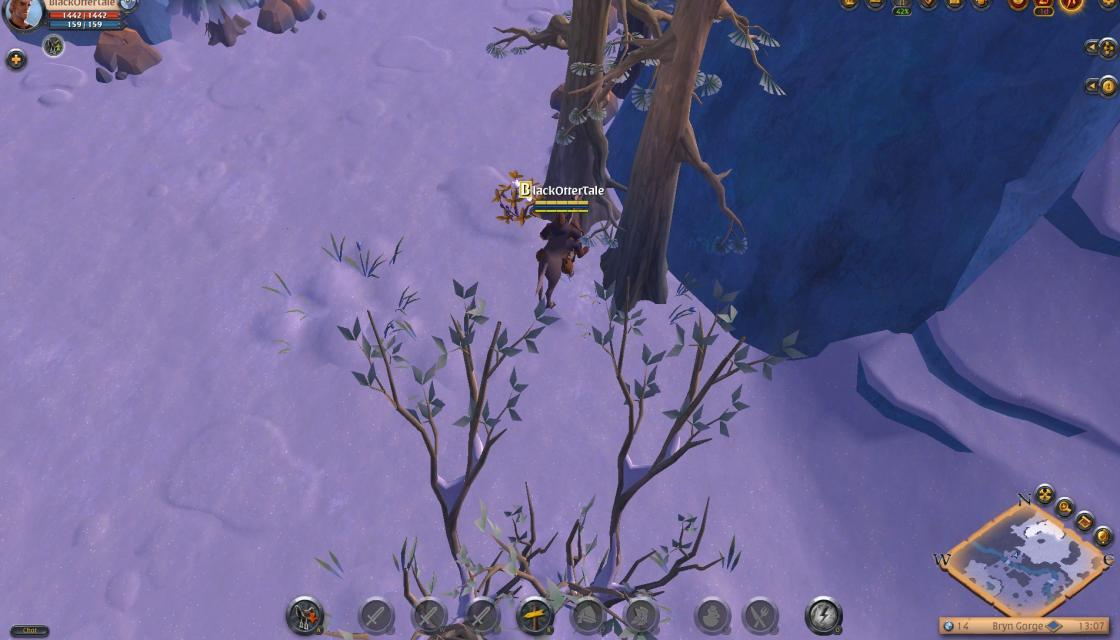limestone: (93, 18, 158, 80), (253, 0, 323, 31)
